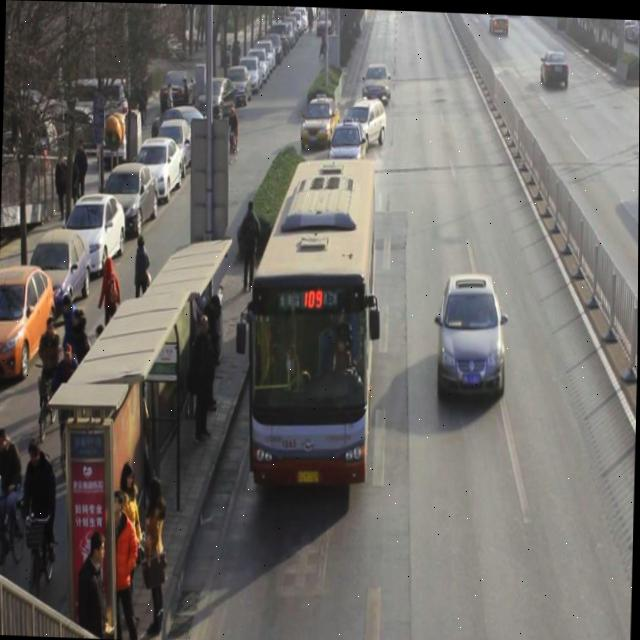car: (437, 270, 508, 397), (300, 91, 340, 149), (346, 95, 387, 146), (328, 114, 367, 164), (539, 44, 569, 86), (362, 60, 392, 98)
van: (246, 155, 375, 488)
